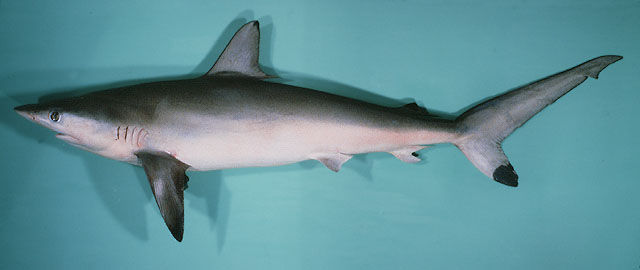fish: (15, 21, 623, 244)
